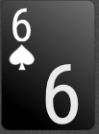Spade: (8, 44, 36, 70)
